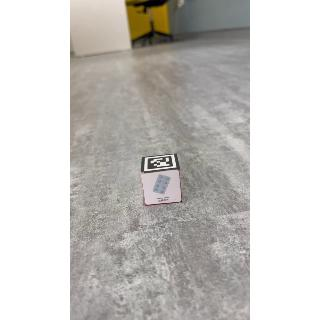Tablet: (144, 171, 185, 207)
